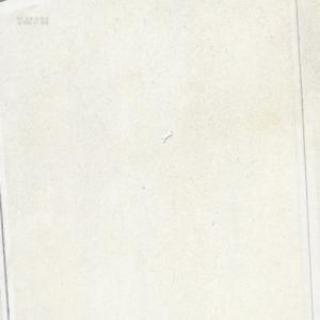Wrenchtrack_idkeyframe: (160, 128, 172, 142)
